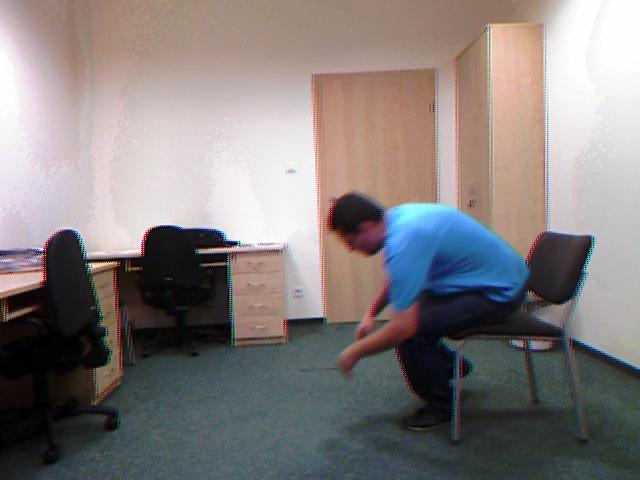near-fall: (308, 185, 543, 438)
